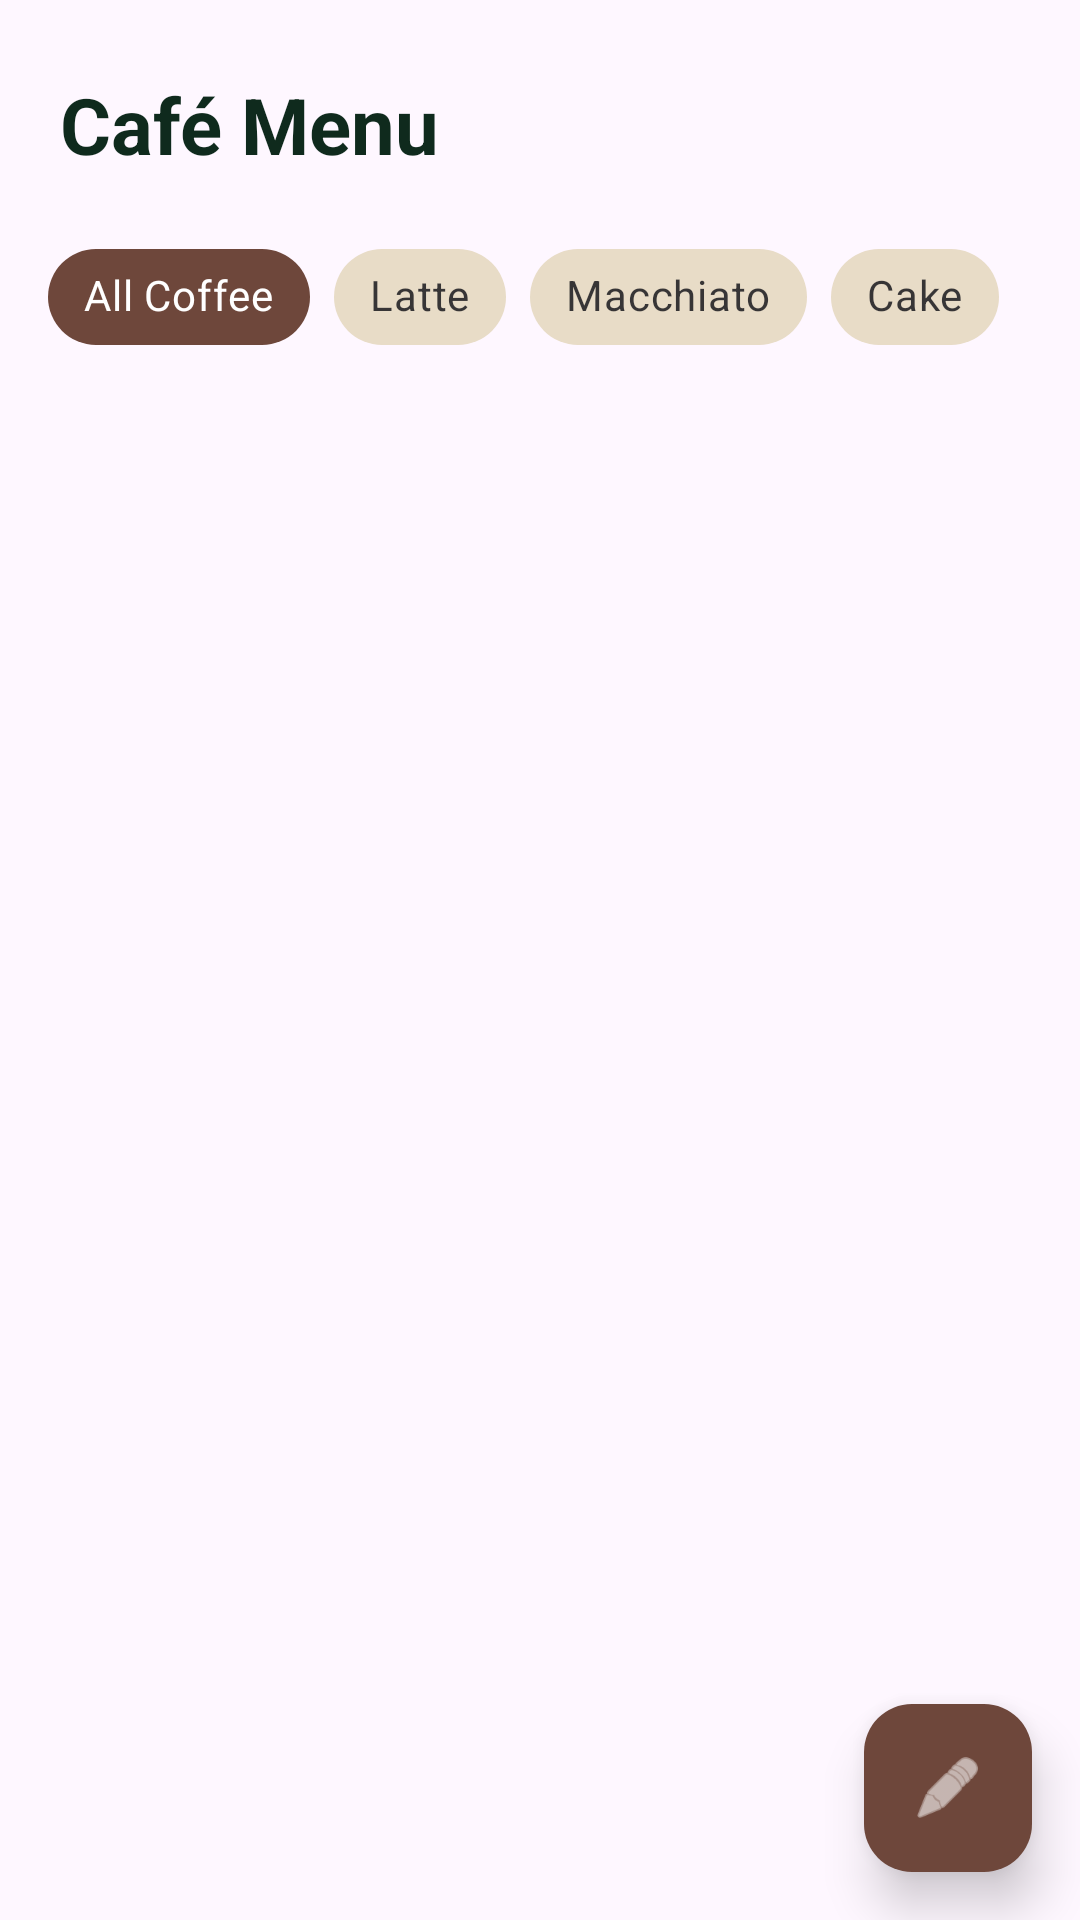

Screen size 1080w x 1920h. Icon name, then its box in pixels as (x1, y1, x2, y2):
Give Feedback: (864, 1704, 1032, 1872)
